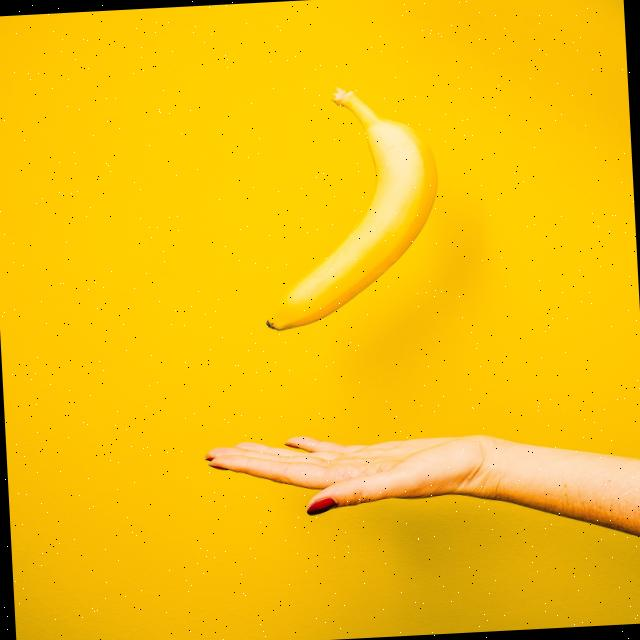Pisang: (252, 81, 446, 332)
